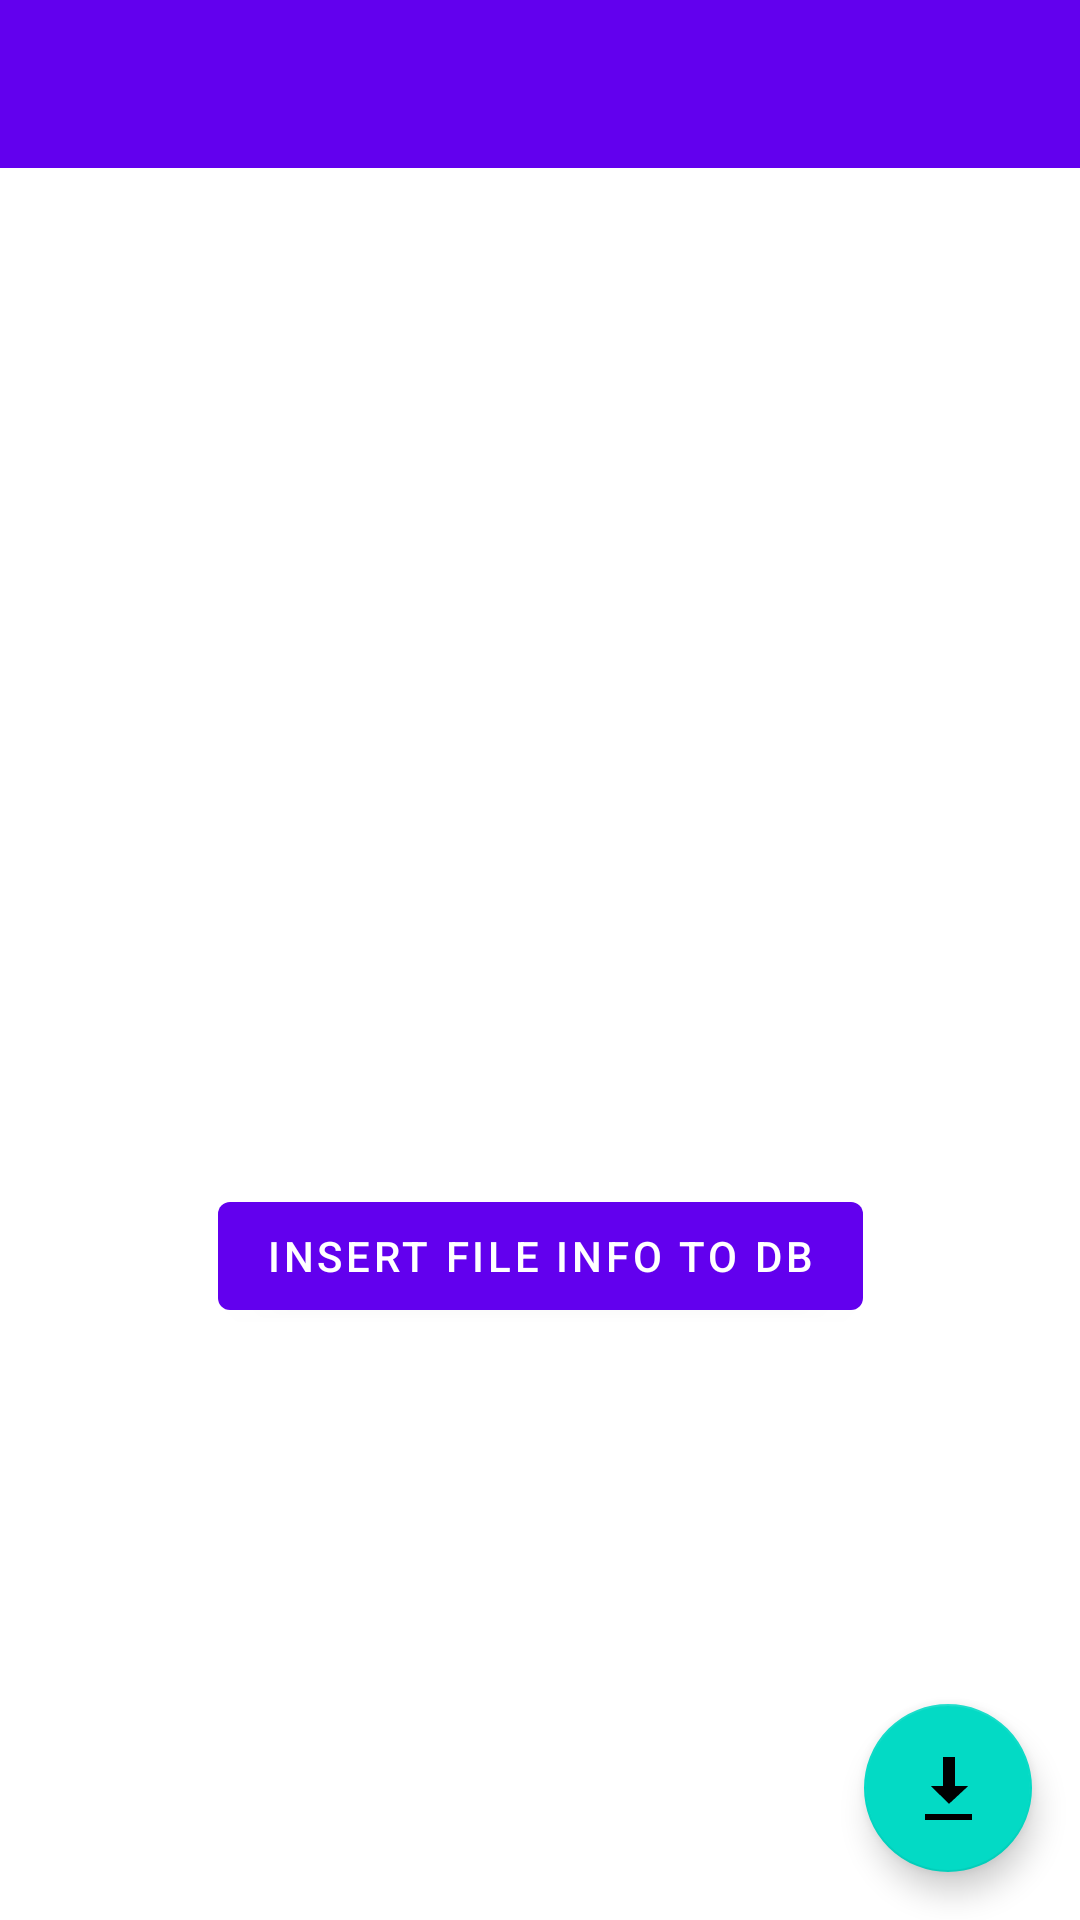

Named icons in this screenshot (1080px x 1920px) and their centers, [x,y]:
the download button to start trigger the media sync: [948,1788]
